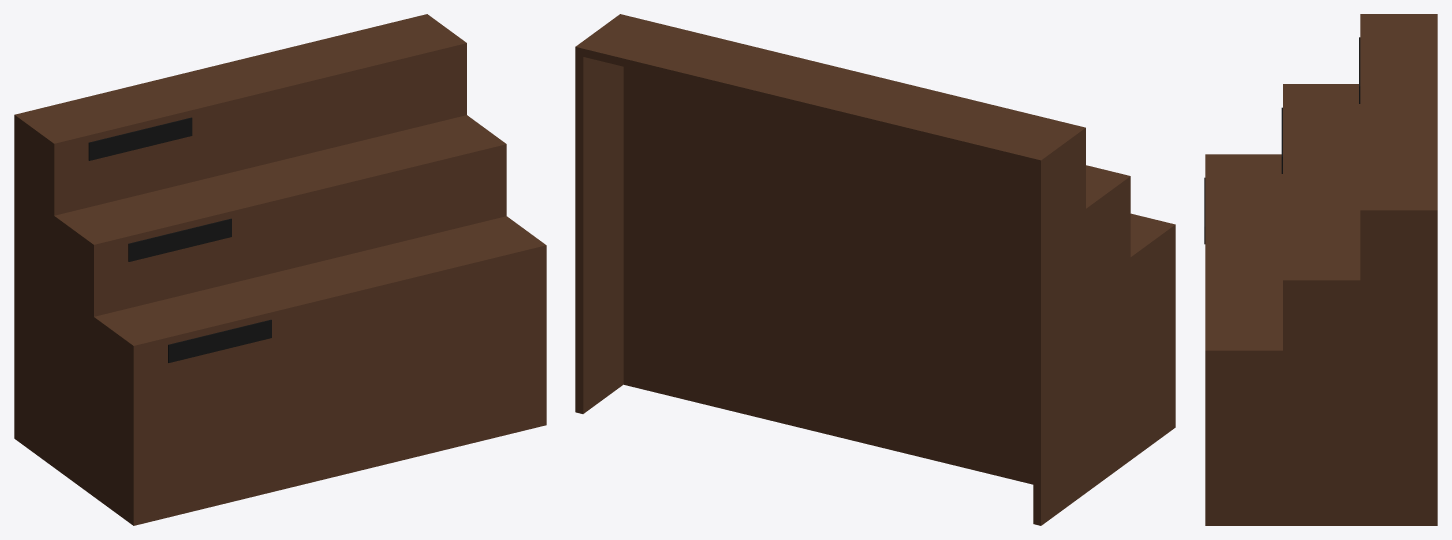
Rendered from 065_three_tier_display_table.glb.
3 views of the same model, side by side, from view 1: azimuth 30°, elevation 25°; view 2: azimuth 150°, elevation 25°; view 3: azimuth 270°, elevation 25° (orthographic). The views are drawn at different scales.
Parts seen in each view (by area): view 1: 003_tier_1_front_skirt, 008_tier_2_front_skirt, 013_tier_3_front_skirt, 007_tier_2_top, 012_tier_3_top, 002_tier_1_top, 010_tier_3_side_l, 005_tier_2_side_l, 000_tier_1_side_l, 014_tier_3_chalk_price_strip, 004_tier_1_chalk_price_strip, 009_tier_2_chalk_price_strip (+3 smaller); view 2: 013_tier_3_front_skirt, 012_tier_3_top, 010_tier_3_side_l, 011_tier_3_side_r, 005_tier_2_side_l, 000_tier_1_side_l, 002_tier_1_top, 007_tier_2_top; view 3: 011_tier_3_side_r, 006_tier_2_side_r, 002_tier_1_top, 007_tier_2_top, 012_tier_3_top, 001_tier_1_side_r, 000_tier_1_side_l.
Boxes of the visible parts, x1=… form: 003_tier_1_front_skirt: x1=140, y1=254, x2=539, y2=523; 008_tier_2_front_skirt: x1=100, y1=153, x2=499, y2=314; 013_tier_3_front_skirt: x1=61, y1=52, x2=460, y2=213; 007_tier_2_top: x1=54, y1=115, x2=506, y2=251; 012_tier_3_top: x1=14, y1=14, x2=466, y2=150; 002_tier_1_top: x1=94, y1=218, x2=546, y2=352; 010_tier_3_side_l: x1=14, y1=113, x2=60, y2=467; 005_tier_2_side_l: x1=54, y1=214, x2=100, y2=496; 000_tier_1_side_l: x1=94, y1=316, x2=140, y2=525; 014_tier_3_chalk_price_strip: x1=88, y1=117, x2=192, y2=160; 004_tier_1_chalk_price_strip: x1=168, y1=319, x2=271, y2=362; 009_tier_2_chalk_price_strip: x1=128, y1=218, x2=231, y2=261; 013_tier_3_front_skirt: x1=623, y1=67, x2=1033, y2=484; 012_tier_3_top: x1=575, y1=14, x2=1085, y2=167; 010_tier_3_side_l: x1=1033, y1=126, x2=1085, y2=525; 011_tier_3_side_r: x1=575, y1=14, x2=627, y2=413; 005_tier_2_side_l: x1=1086, y1=174, x2=1130, y2=492; 000_tier_1_side_l: x1=1130, y1=222, x2=1175, y2=459; 002_tier_1_top: x1=1130, y1=213, x2=1175, y2=264; 007_tier_2_top: x1=1086, y1=165, x2=1130, y2=213; 011_tier_3_side_r: x1=1360, y1=207, x2=1437, y2=525; 006_tier_2_side_r: x1=1283, y1=277, x2=1360, y2=525; 002_tier_1_top: x1=1205, y1=154, x2=1282, y2=357; 007_tier_2_top: x1=1283, y1=84, x2=1360, y2=287; 012_tier_3_top: x1=1360, y1=14, x2=1437, y2=217; 001_tier_1_side_r: x1=1205, y1=347, x2=1282, y2=525; 000_tier_1_side_l: x1=1205, y1=154, x2=1281, y2=157.
Bounding box in the file's own units: 1.2 × 0.9 × 0.603.
